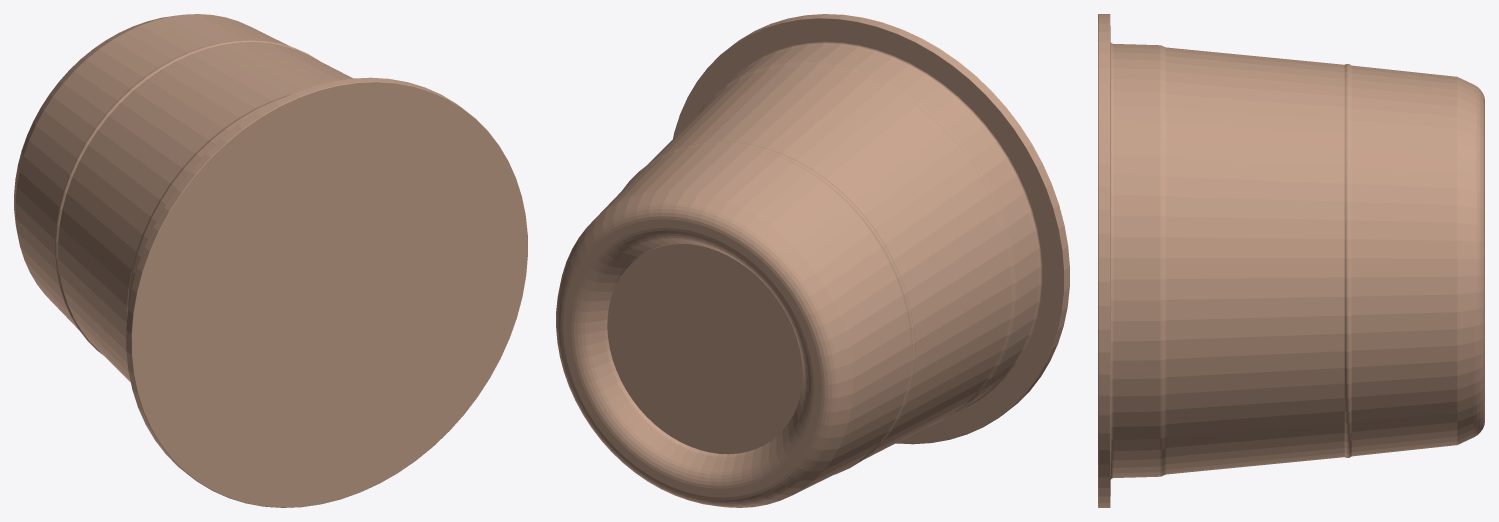
The picture shows the model from 3 angles, left to right: view 1: azimuth 30°, elevation 25°; view 2: azimuth 150°, elevation 25°; view 3: azimuth 270°, elevation 25°; orthographic projection. The views are drawn at different scales.
Visible parts, largest first — view 1: collision.obj; view 2: collision.obj; view 3: collision.obj.
Part boxes in pixels (<box>): collision.obj: <box>14,14,527,507</box>; collision.obj: <box>556,14,1069,507</box>; collision.obj: <box>1098,14,1484,507</box>.
Bounding box in the file's own units: 0.037 × 0.037 × 0.029.
